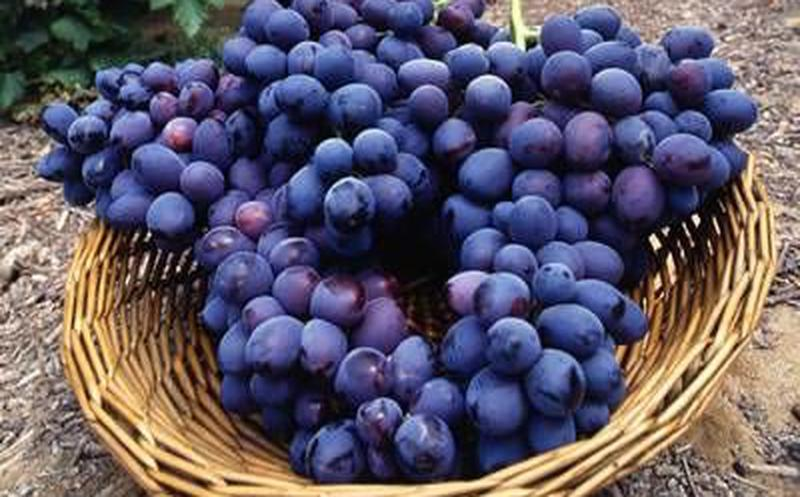Black grapes: (56, 73, 503, 470), (441, 18, 727, 446), (219, 8, 492, 240)
